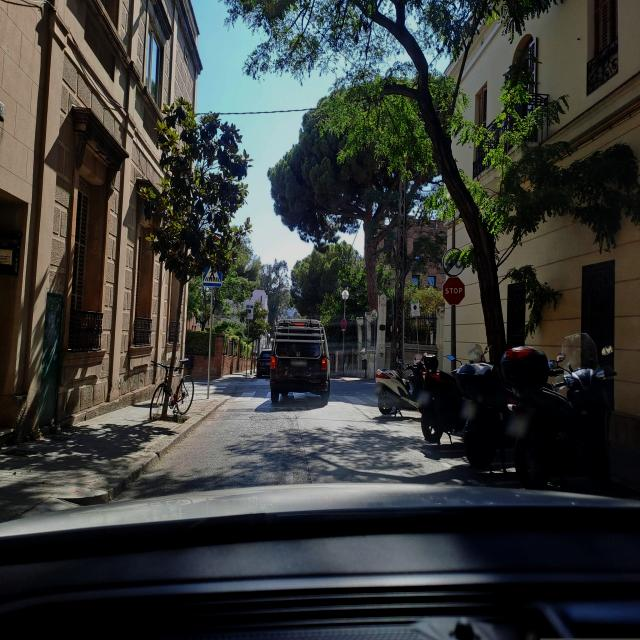bike: (457, 340, 614, 494), (508, 332, 614, 494), (418, 348, 493, 446), (148, 353, 194, 422)
car: (269, 317, 331, 405), (256, 348, 272, 378)
